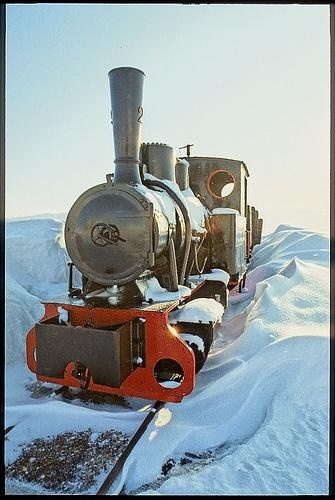train: (23, 66, 267, 404)
